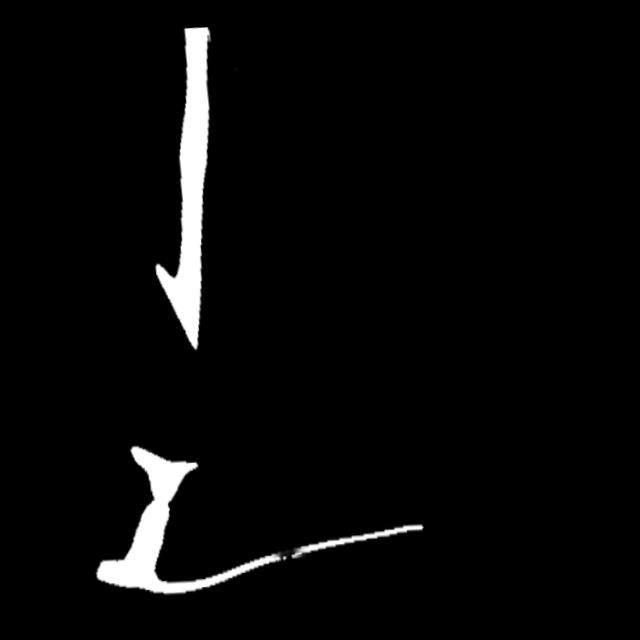inf: (272, 536, 308, 564)
